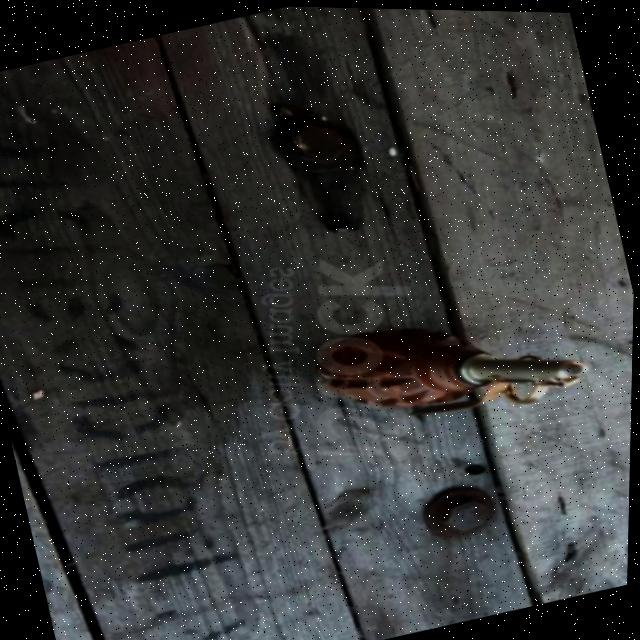grenade: (278, 255, 618, 479)
